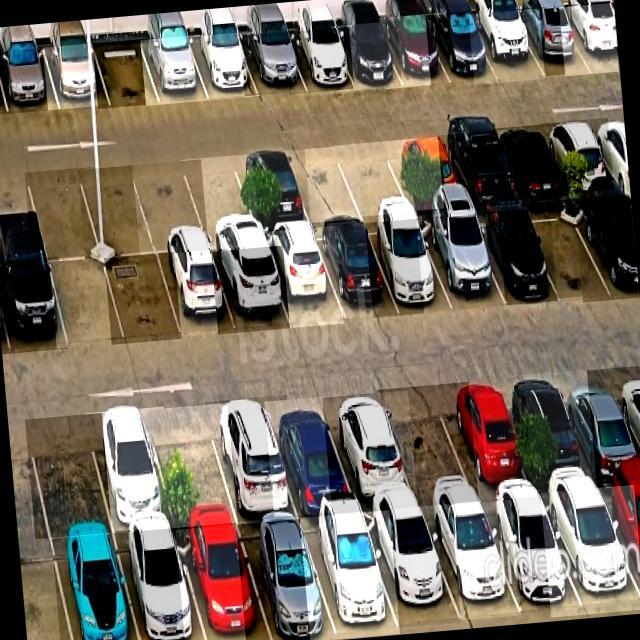empty: (378, 385, 478, 506), (146, 409, 237, 527), (26, 414, 111, 537), (522, 200, 613, 298), (181, 155, 260, 249), (77, 166, 156, 257), (133, 162, 208, 254), (25, 169, 100, 260), (104, 254, 181, 342), (49, 260, 124, 347), (286, 146, 362, 222), (335, 142, 411, 216), (92, 40, 160, 106)
occupied: (300, 513, 400, 640), (540, 488, 640, 614), (236, 520, 336, 640), (421, 502, 520, 620), (481, 497, 582, 612), (362, 509, 461, 626), (440, 379, 534, 500), (206, 398, 297, 521), (175, 524, 271, 640), (322, 393, 418, 508), (264, 398, 356, 515), (85, 410, 173, 531), (508, 374, 597, 493), (116, 528, 205, 640), (558, 371, 640, 486), (52, 534, 138, 640), (467, 210, 557, 305), (417, 216, 505, 310), (314, 223, 399, 319), (262, 228, 343, 327), (365, 219, 452, 311), (158, 251, 237, 336), (212, 247, 290, 331), (574, 196, 638, 298), (438, 131, 519, 208), (0, 259, 66, 353), (233, 151, 311, 229), (468, 10, 545, 83), (493, 125, 568, 198), (387, 137, 464, 208), (512, 8, 591, 75), (541, 121, 614, 192), (425, 14, 498, 84), (380, 15, 450, 87), (598, 481, 640, 596), (331, 22, 402, 89), (140, 37, 208, 103), (188, 36, 258, 100), (284, 29, 354, 92), (43, 43, 109, 109), (239, 33, 305, 95), (559, 3, 618, 72), (0, 48, 59, 113)
